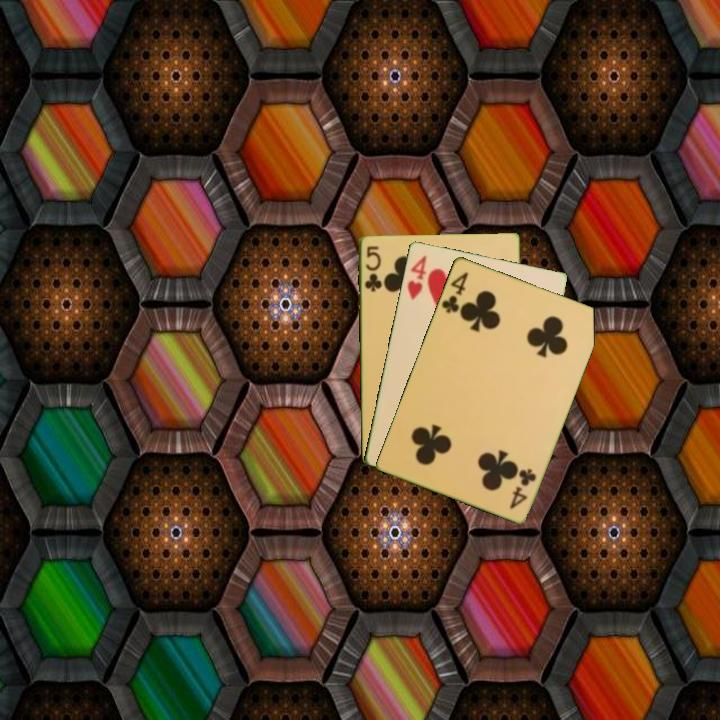4c: (438, 268, 471, 316), (506, 464, 539, 512)
4h: (403, 251, 429, 302)
5c: (361, 242, 384, 294)
